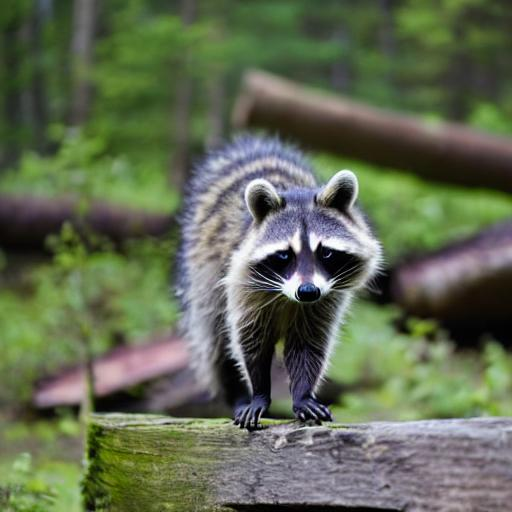raccoon: (168, 127, 388, 381)
